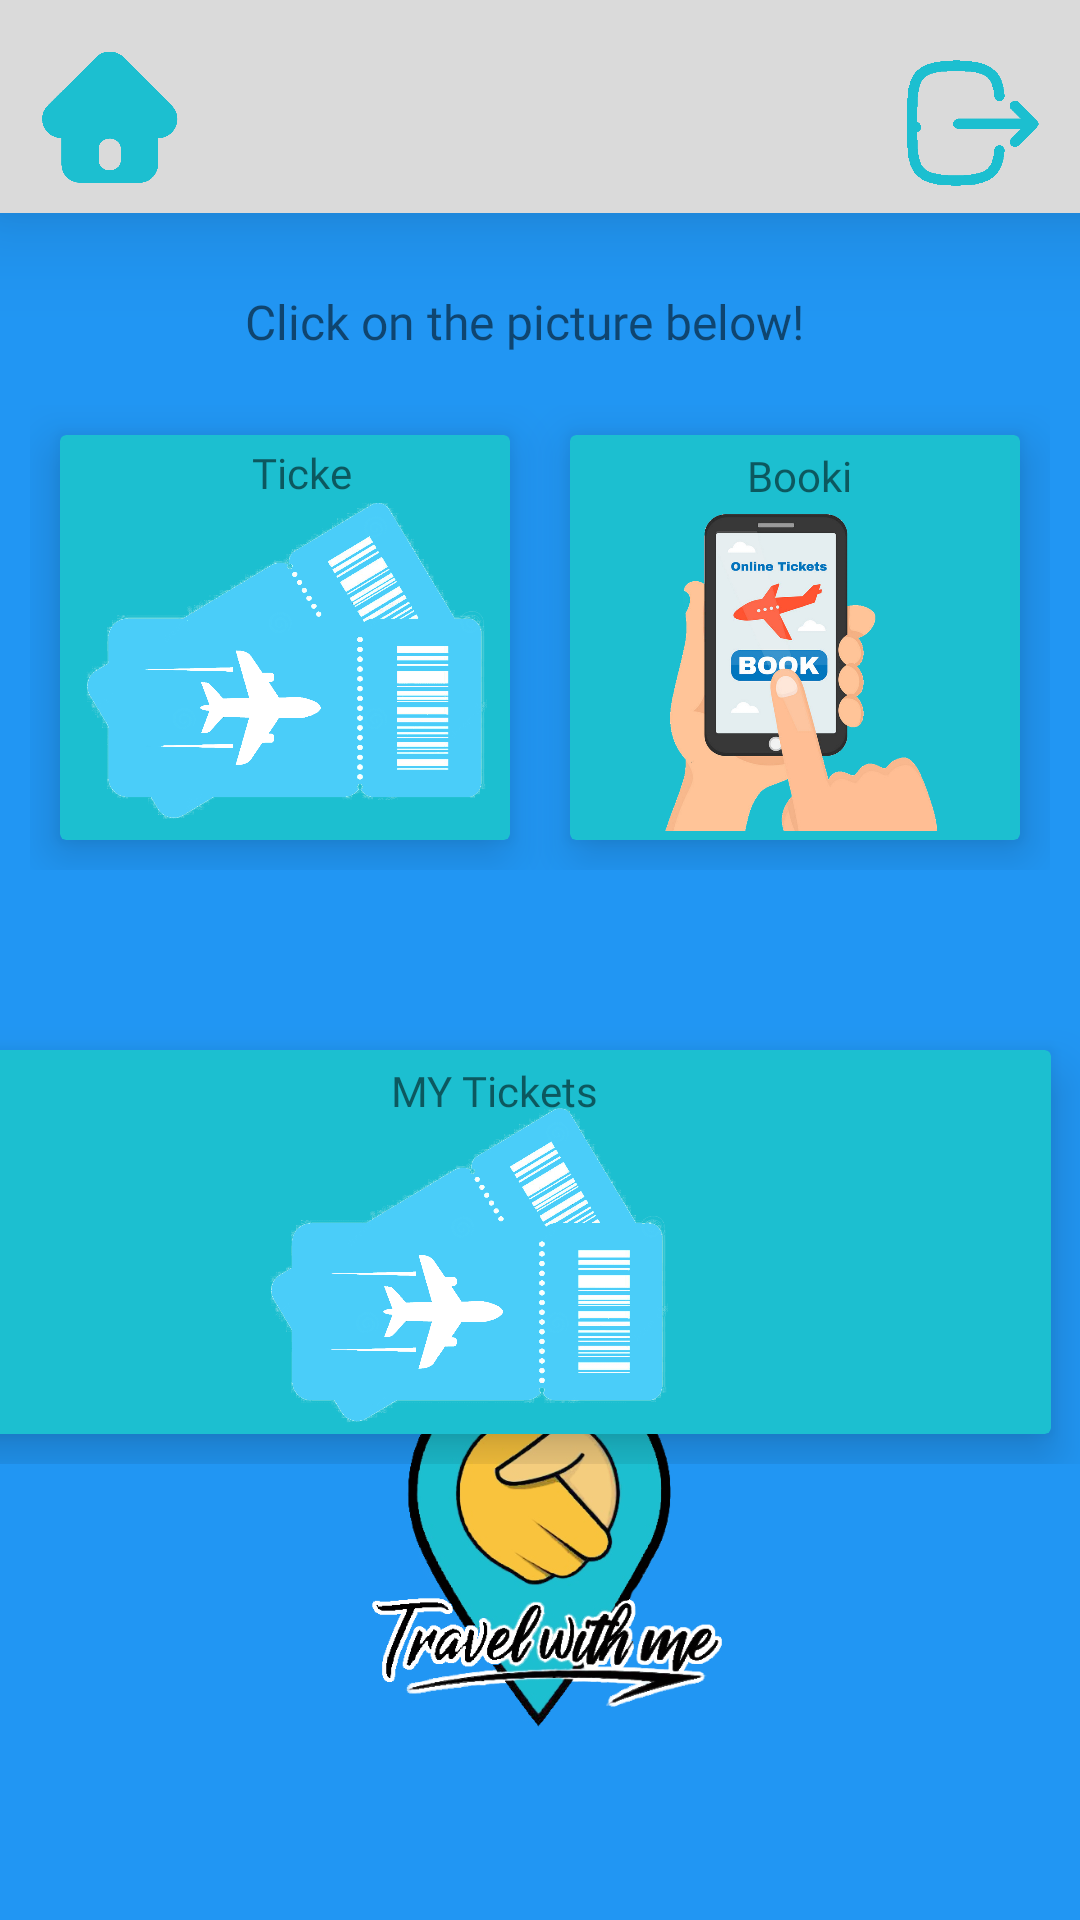

Point at icon controls on the screen. Image size 1080 x 1920, points as (x,y).
rumah: (110,117)
